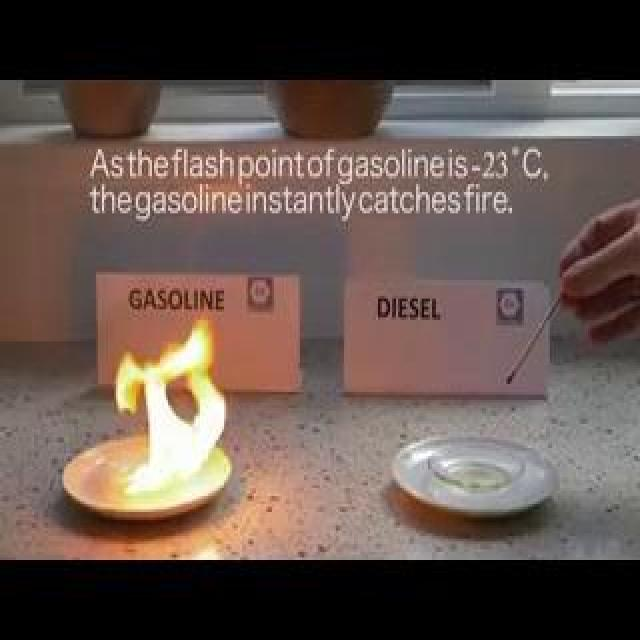Fire: (118, 304, 232, 499)
